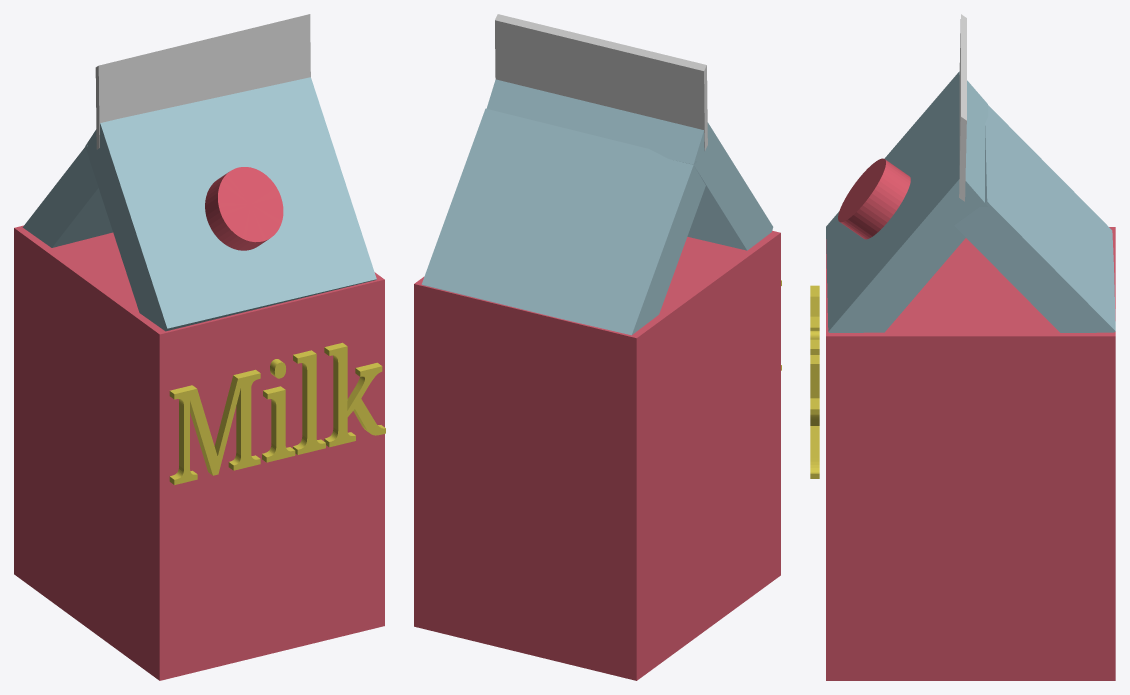
Rendered from milk.glb.
3 views of the same model, side by side, from view 1: azimuth 30°, elevation 25°; view 2: azimuth 150°, elevation 25°; view 3: azimuth 270°, elevation 25° (orthographic).
Visible parts, largest first — view 1: Mesh_Mesh_head_geo.001_lambert2SG.001; view 2: Mesh_Mesh_head_geo.001_lambert2SG.001; view 3: Mesh_Mesh_head_geo.001_lambert2SG.001.
Part boxes in pixels (x1,y1,x2,y2): Mesh_Mesh_head_geo.001_lambert2SG.001: [14, 14, 385, 680]; Mesh_Mesh_head_geo.001_lambert2SG.001: [414, 14, 781, 680]; Mesh_Mesh_head_geo.001_lambert2SG.001: [810, 14, 1115, 680].
Bounding box in the file's own units: 0.033 × 0.079 × 0.039.
